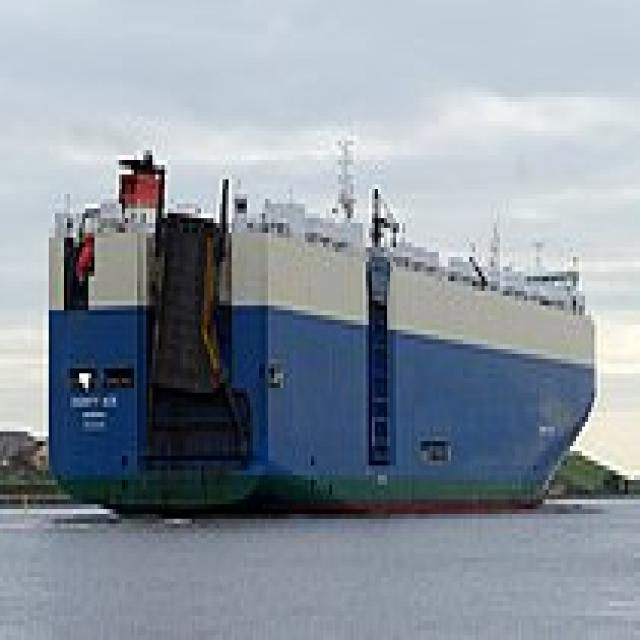Carrier: (40, 126, 594, 514)
